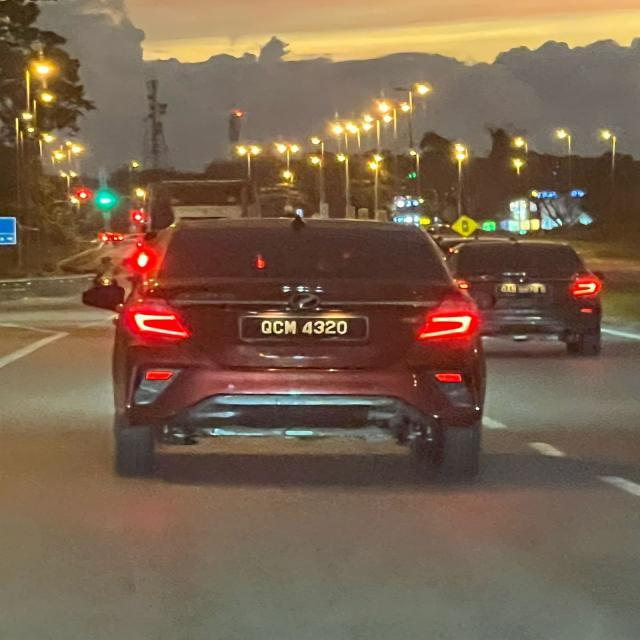PeroduaBezza: (82, 213, 488, 481)
